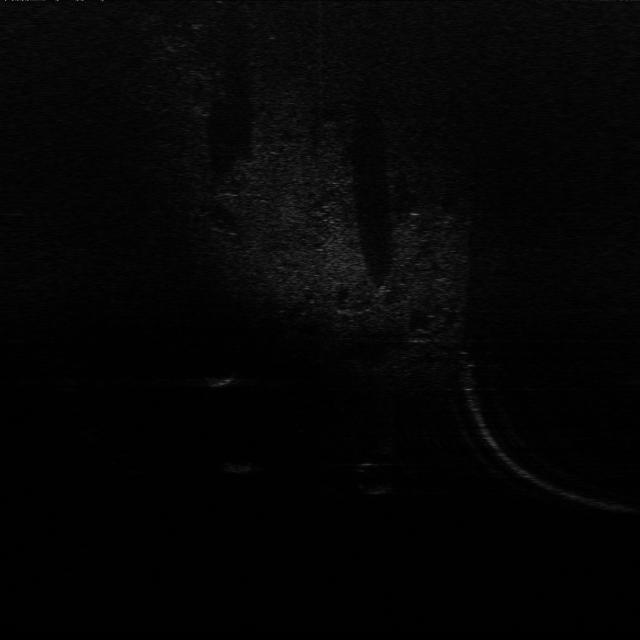cube: (223, 455, 258, 477)
square cage: (200, 366, 240, 390)
tyre: (344, 458, 396, 495)
